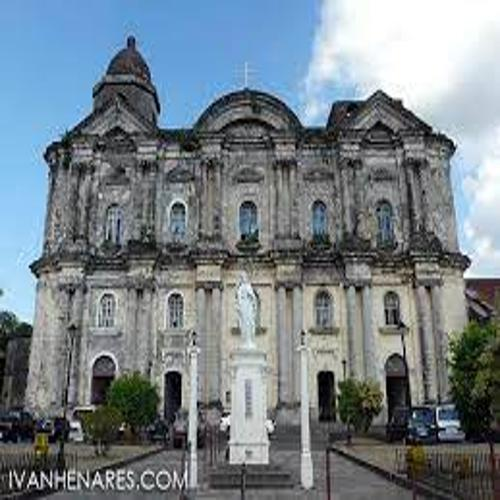Taal Basilica Church: (34, 23, 471, 440)
